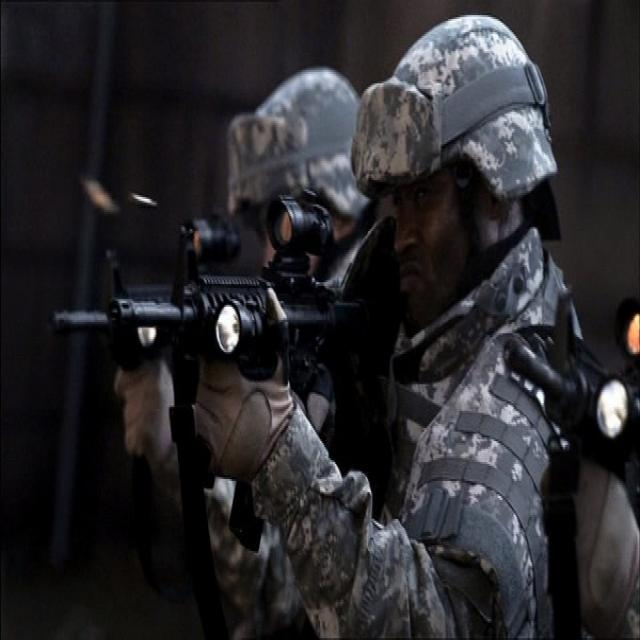rifle: (38, 196, 398, 547)
